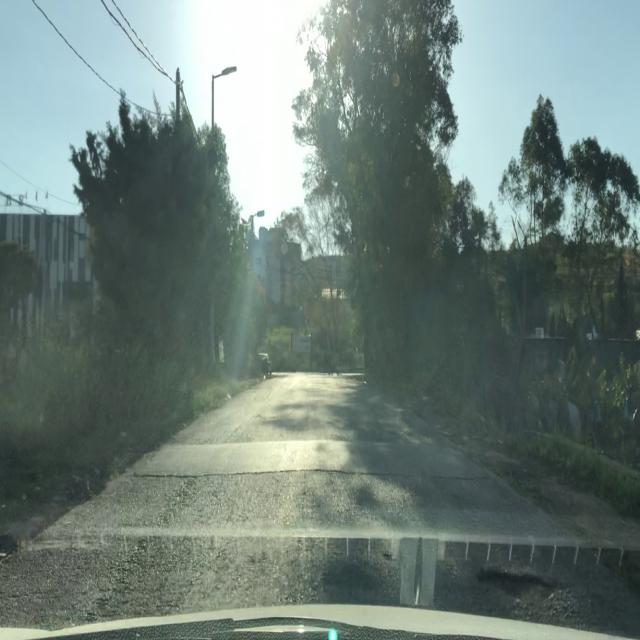Pothole: (472, 562, 564, 614)
